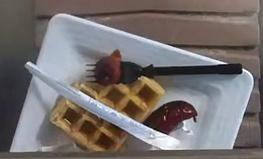sausage: (144, 101, 197, 134), (96, 55, 122, 84)
waffle: (73, 76, 164, 122), (50, 98, 127, 151)
